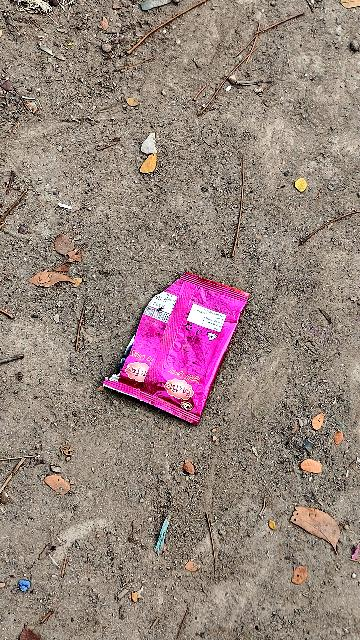packet: (100, 263, 243, 428)
